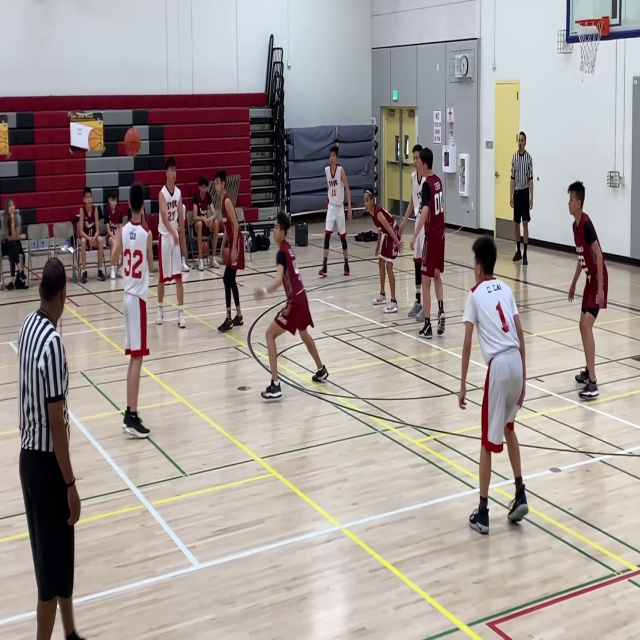Basketball: (123, 127, 141, 156)
